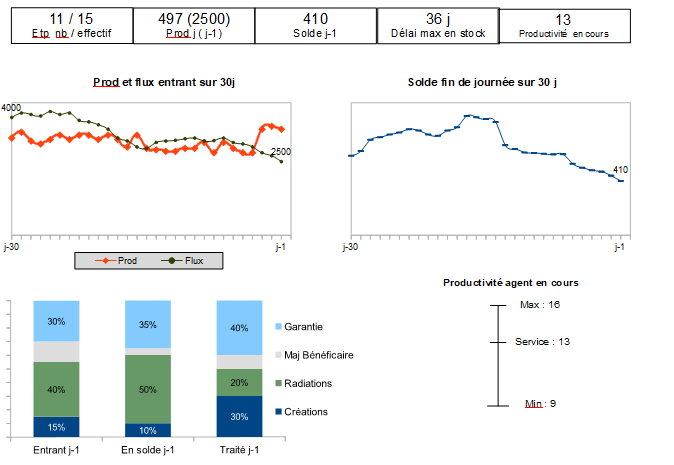

This screenshot's page, from the dashboard's own definition file:
{"tool":"powerbi","page":{"name":"Vue service","canvas":[1280,720],"ordinal":0},"visuals":[{"type":"card","fields":{"Values":["ETP.ETPj"]},"box":[0,0,187.9,101.3],"z":0},{"type":"card","fields":{"Values":["dossiers_prod.Prod_J_et_J1"]},"box":[187.7,0,298.5,101.9],"z":1000},{"type":"card","fields":{"Values":["solde_finjour.Solde j-1"]},"box":[486.7,0,261.9,102.2],"z":2000},{"type":"card","fields":{"Values":["Max(dossiers_prod.duréeStock)"]},"box":[749.1,0,261,101.9],"z":3000},{"type":"card","fields":{"Values":["dossiers_prod.prodtéCourante"]},"box":[1010.6,0,269.4,102.2],"z":4000},{"type":"lineChart","title":"Prod et flux entrant sur 30 jours glissants","fields":{"Category":["Calendrier.Jour"],"Y2":["dossiers_prod.Entrées (sans zéros)"],"Y":["dossiers_prod.ProductionHorZeros"]},"box":[0,102.2,452.2,243.4],"z":5000},{"type":"lineChart","title":"Solde fin de journée 30 jours glissantssur 30 jours glissants","fields":{"Y":["solde_finjour.Solde j-1"],"Category":["Calendrier.Date"]},"box":[452.2,100.8,473.8,244.8],"z":6000},{"type":"pythonVisual","fields":{"Values":["Prodté.productivité horaire"]},"box":[924.9,102.4,354.1,242.9],"z":7000}]}

Visuals, with their boxes on the page's 1280x720 design canvas (x1, y1, x2, y2). These are canvas units, not pixel positions in the 674x465 screenshot, which may show the page scaled, cropped or inside an application window:
card - ETP.ETPj: Rect(0, 0, 188, 101)
card - dossiers_prod.Prod_J_et_J1: Rect(188, 0, 486, 102)
card - solde_finjour.Solde j-1: Rect(487, 0, 749, 102)
card - Max(dossiers_prod.duréeStock): Rect(749, 0, 1010, 102)
card - dossiers_prod.prodtéCourante: Rect(1011, 0, 1280, 102)
"Prod et flux entrant sur 30 jours glissants" lineChart: Rect(0, 102, 452, 346)
"Solde fin de journée 30 jours glissantssur 30 jours glissants" lineChart: Rect(452, 101, 926, 346)
pythonVisual - Prodté.productivité horaire: Rect(925, 102, 1279, 345)
